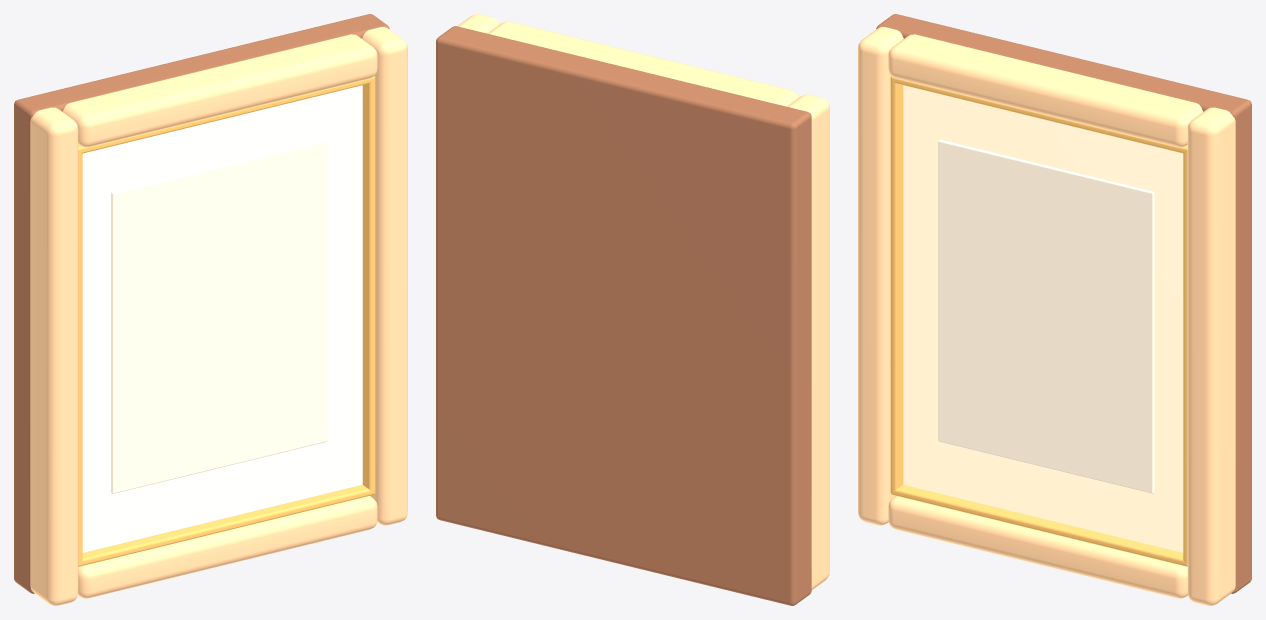
The model's file is petite_maple_frame.glb.
3 renders of one model, left to right at view 1: azimuth 30°, elevation 25°; view 2: azimuth 150°, elevation 25°; view 3: azimuth 330°, elevation 25°, orthographic.
Visible parts, largest first — view 1: petite_maple_frame; view 2: petite_maple_frame; view 3: petite_maple_frame.
Boxes of the visible parts, x1,y1,x2,y2 form: petite_maple_frame: (14,14,407,605); petite_maple_frame: (436,14,829,605); petite_maple_frame: (858,14,1251,605).
Bounding box in the file's own units: 0.32 × 0.41 × 0.061.
